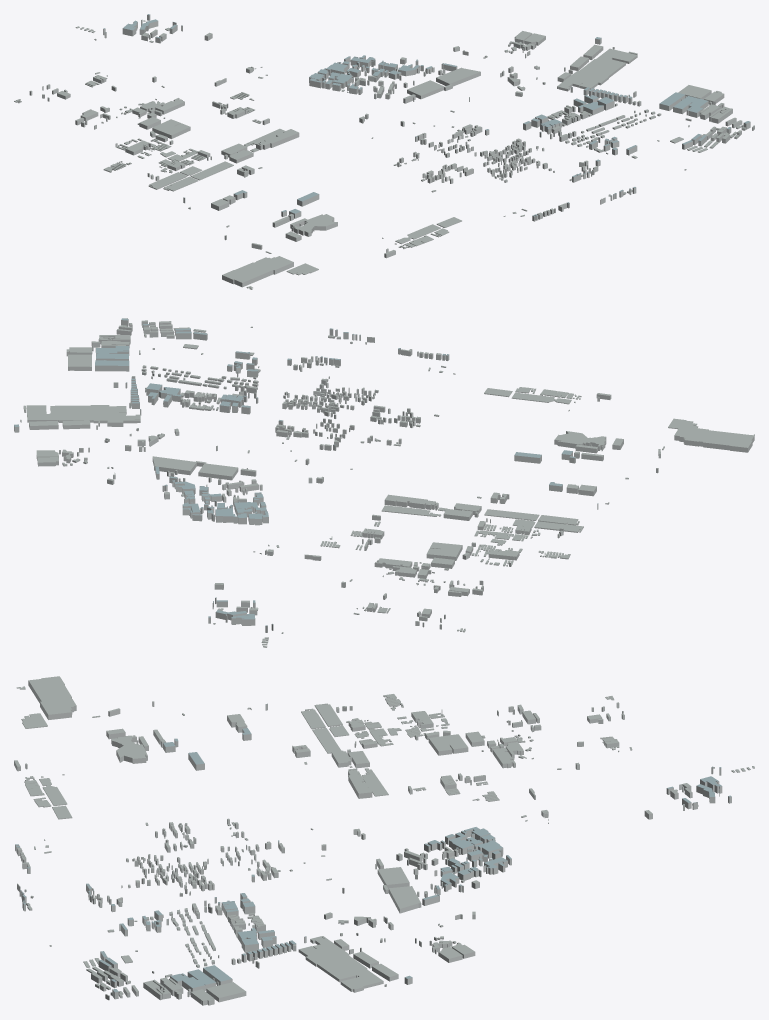
The model's file is far.glb.
3 views of the same model, one above another, from view 1: azimuth 30°, elevation 25°; view 2: azimuth 150°, elevation 25°; view 3: azimuth 270°, elevation 25° (orthographic). The views are drawn at different scales.
Bounding box in the file's own units: 2167 × 23.5 × 2093.
